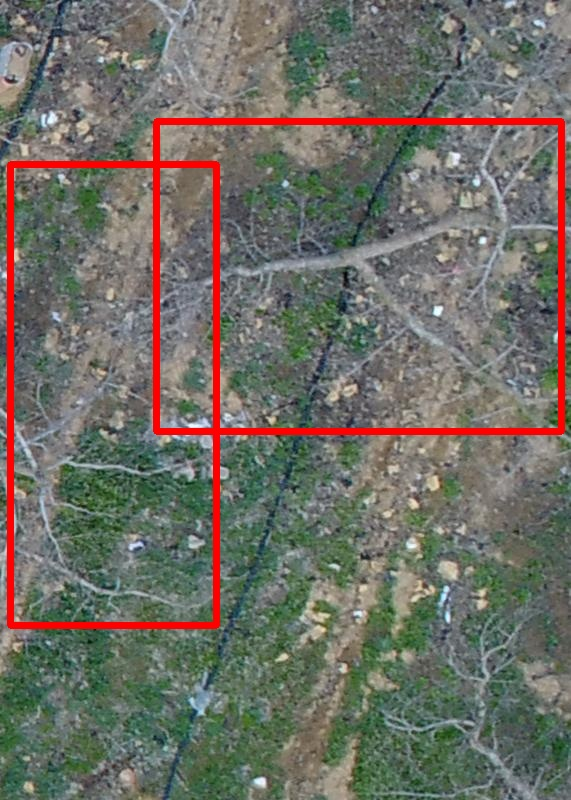apple: (156, 121, 561, 431), (10, 164, 216, 625)
